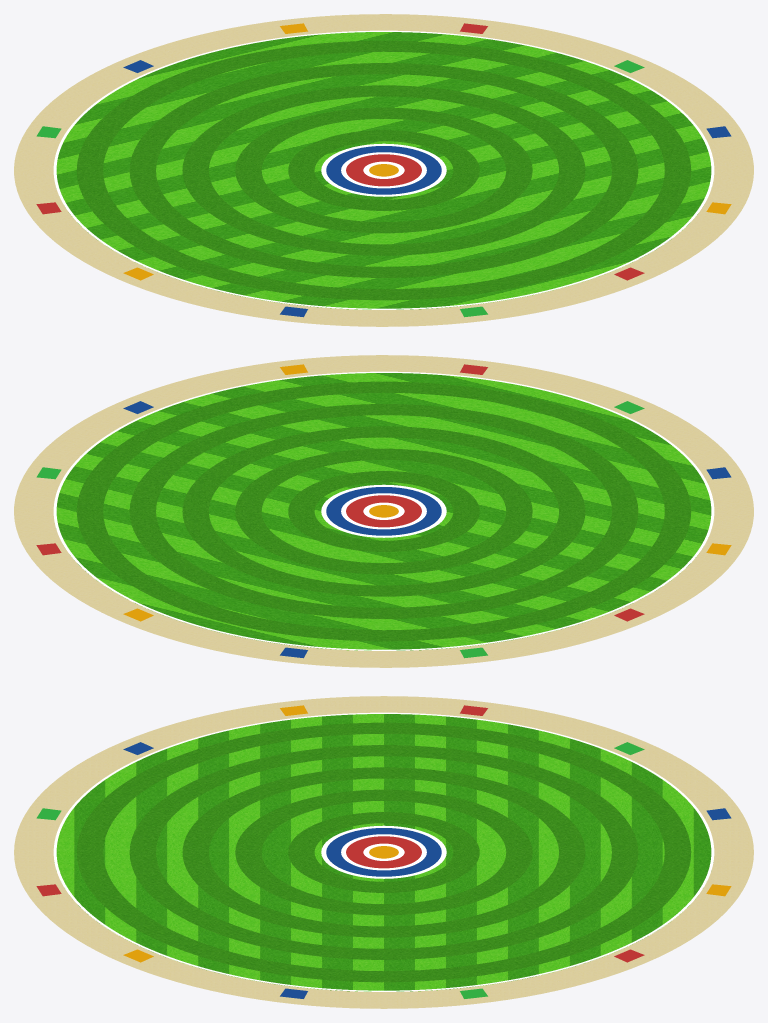
The model's file is PS_Arena_Floor.glb.
3 renders of one model, top to bottom at view 1: azimuth 30°, elevation 25°; view 2: azimuth 150°, elevation 25°; view 3: azimuth 270°, elevation 25°, orthographic.
Visible parts, largest first — view 1: Arena Floor, Arena Markings; view 2: Arena Floor, Arena Markings; view 3: Arena Floor, Arena Markings.
Part boxes in pixels (x1,y1,x2,y2): Arena Floor: (14,14,753,326); Arena Markings: (36,23,731,317); Arena Floor: (14,355,753,667); Arena Markings: (36,364,731,658); Arena Floor: (14,696,753,1008); Arena Markings: (36,705,731,998).
Size of what is drawn, in the model's own units: 179 by 0.052 by 179.
5 materials, 4 textured.
